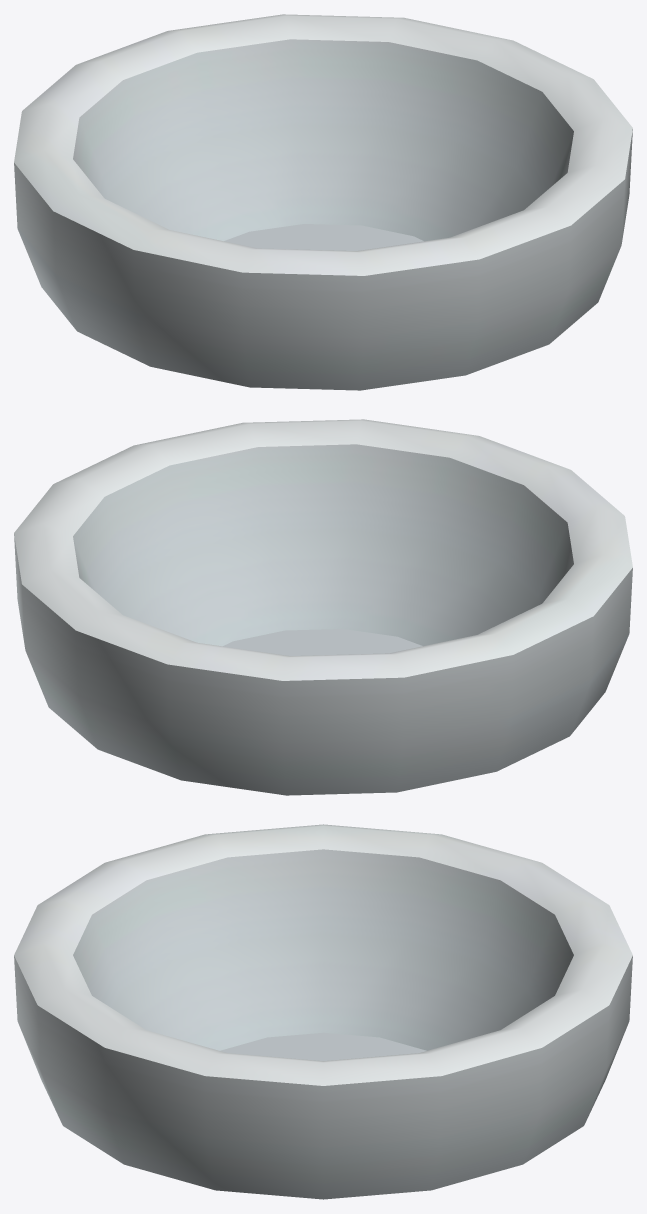
File: kaykit-bowl.glb
The picture shows the model from 3 angles, top to bottom: view 1: azimuth 30°, elevation 25°; view 2: azimuth 150°, elevation 25°; view 3: azimuth 270°, elevation 25°; orthographic projection.
Visible parts, largest first — view 1: bowl; view 2: bowl; view 3: bowl.
Part boxes in pixels (x1,y1,x2,y2): bowl: (14, 14, 632, 390); bowl: (14, 419, 632, 795); bowl: (14, 824, 632, 1199).
Bounding box in the file's own units: 0.95 × 0.3 × 0.95.
Materials: 1 (1 with a texture image).
